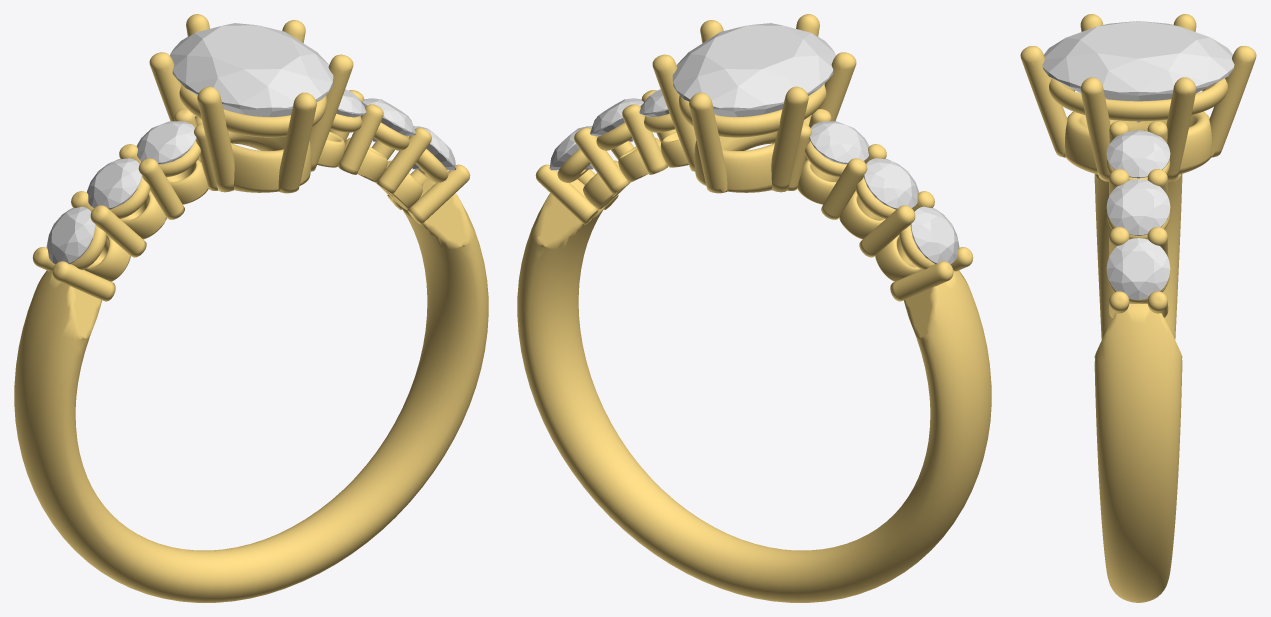
File: diamond-oval-yellowgold-6prong-taperedband-7stone.glb
The picture shows the model from 3 angles, left to right: view 1: azimuth 30°, elevation 25°; view 2: azimuth 150°, elevation 25°; view 3: azimuth 270°, elevation 25°; orthographic projection.
Visible parts, largest first — view 1: metal, stone.001, side.012, side.013, side.014, side.016, side.015; view 2: metal, stone.001, side.012, side.013, side.014, side.016, side.015; view 3: metal, stone.001, side.015, side.016, side.017.
Boxes of the visible parts, box(x1,y1,x2,y2) form: metal: box(14, 14, 488, 602); stone.001: box(170, 23, 333, 116); side.012: box(46, 206, 95, 264); side.013: box(87, 158, 142, 209); side.014: box(136, 121, 196, 164); side.016: box(362, 98, 415, 141); side.015: box(412, 126, 456, 170); metal: box(517, 14, 991, 602); stone.001: box(672, 23, 835, 116); side.012: box(910, 206, 959, 264); side.013: box(863, 158, 918, 209); side.014: box(809, 121, 869, 164); side.016: box(590, 98, 643, 141); side.015: box(549, 126, 593, 170); metal: box(1020, 14, 1256, 602); stone.001: box(1042, 21, 1234, 122); side.015: box(1106, 238, 1170, 299); side.016: box(1106, 179, 1170, 235); side.017: box(1106, 130, 1170, 178).
Bounding box in the file's own units: 20.48 × 23.4 × 9.29.
